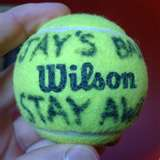tennis ball: (11, 12, 150, 152)
